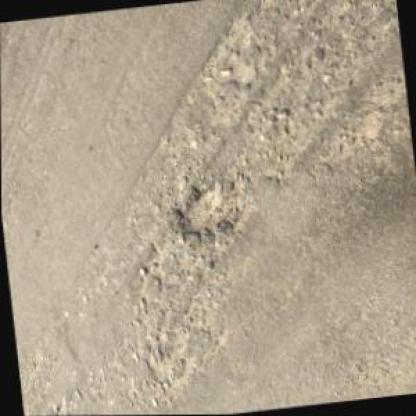pothole: (170, 175, 245, 240), (133, 243, 171, 283)
